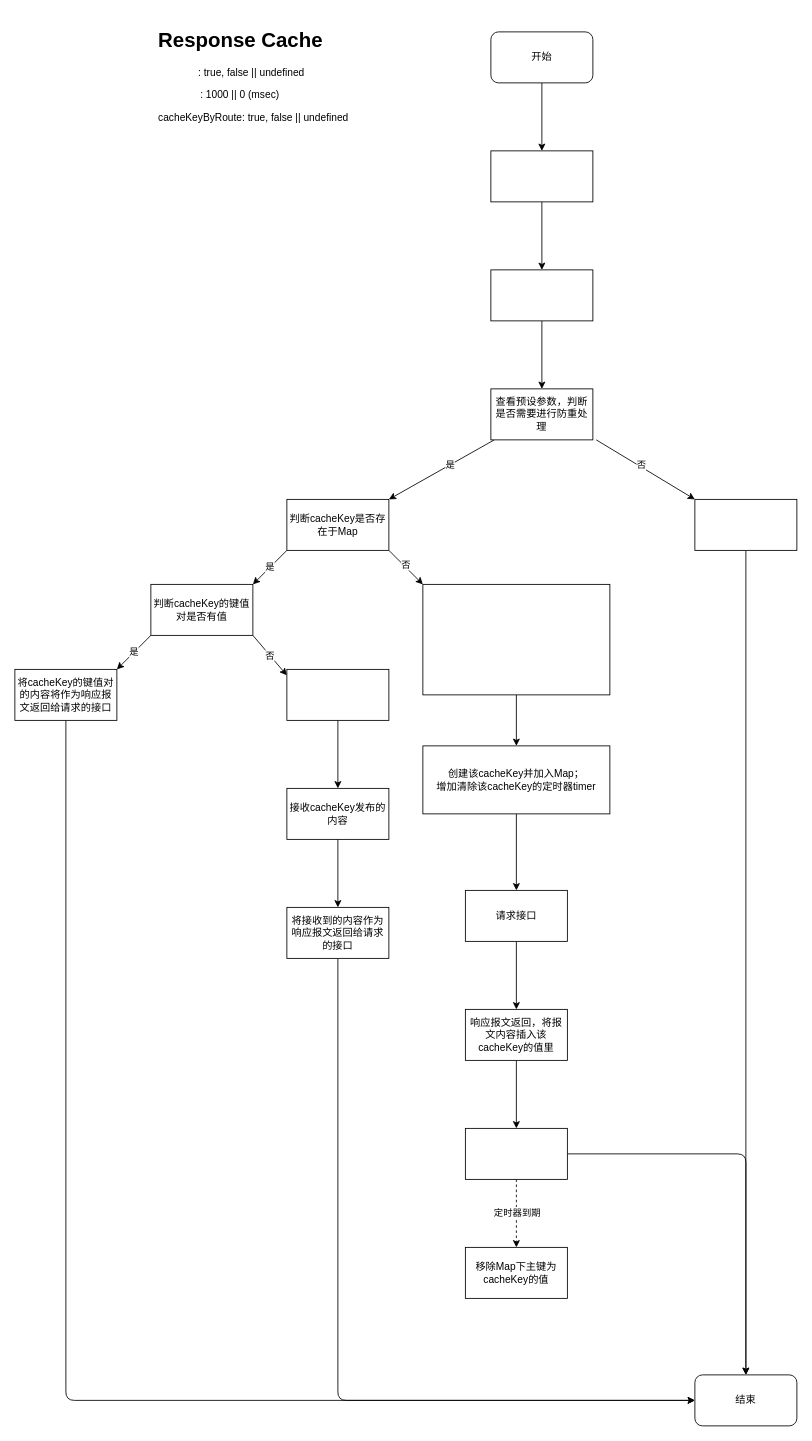
This 812x1441 diagram has some shape labels left out. Each missing label, with the centre of its shape:
【发布cacheKey】的内容: pixel 516 1153
【订阅cacheKey】: pixel 337 694
多个请求: pixel 541 176
拦截请求: pixel 541 295
挨个请求接口: pixel 745 524
获取cacheKey所需的参数。 请求的URL 请求的入参，data以及params 请求时的路由: pixel 516 639
